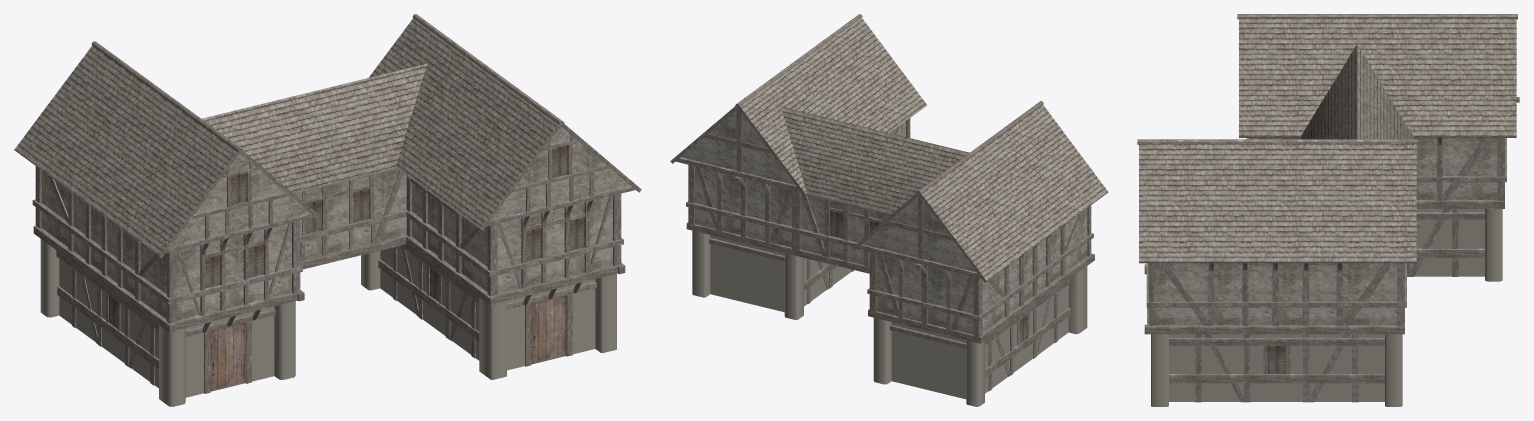
File: House_2.fbx
3 views of the same model, side by side, from view 1: azimuth 30°, elevation 25°; view 2: azimuth 150°, elevation 25°; view 3: azimuth 270°, elevation 25° (orthographic). The views are drawn at different scales.
Parts seen in each view (by area): view 1: Model; view 2: Model; view 3: Model.
Boxes of the visible parts, left/top/right/bottom form: Model: left=14, top=14, right=641, bottom=406; Model: left=670, top=14, right=1108, bottom=406; Model: left=1137, top=14, right=1519, bottom=406.
Size of the model in its own units: 21.94 by 12.11 by 17.66.
